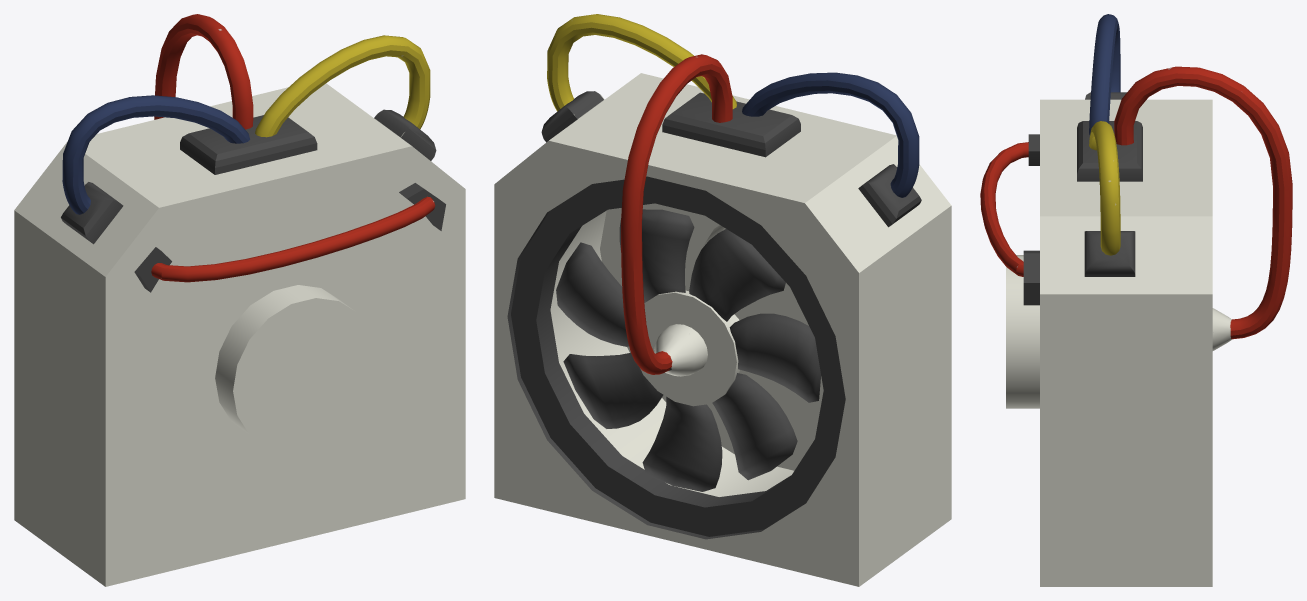
The model's file is Fan.fbx.
The picture shows the model from 3 angles, left to right: view 1: azimuth 30°, elevation 25°; view 2: azimuth 150°, elevation 25°; view 3: azimuth 270°, elevation 25°; orthographic projection. The views are drawn at different scales.
Parts seen in each view (by area): view 1: AtticFan_1289, AtticFan_1289.002; view 2: AtticFan_1289, AtticFan_1289.001, AtticFan_1289.002; view 3: AtticFan_1289, AtticFan_1289.002, AtticFan_1289.001.
Part boxes in pixels (x1=…): AtticFan_1289: x1=14, y1=14, x2=465, y2=586; AtticFan_1289.002: x1=215, y1=285, x2=374, y2=449; AtticFan_1289: x1=494, y1=14, x2=951, y2=586; AtticFan_1289.001: x1=556, y1=209, x2=821, y2=491; AtticFan_1289.002: x1=701, y1=225, x2=808, y2=325; AtticFan_1289: x1=980, y1=14, x2=1292, y2=586; AtticFan_1289.002: x1=1006, y1=255, x2=1039, y2=408; AtticFan_1289.001: x1=1212, y1=308, x2=1232, y2=350.
Size of the model in its own units: 3986 by 4841 by 3126.
Materials: 2 (2 with a texture image).
